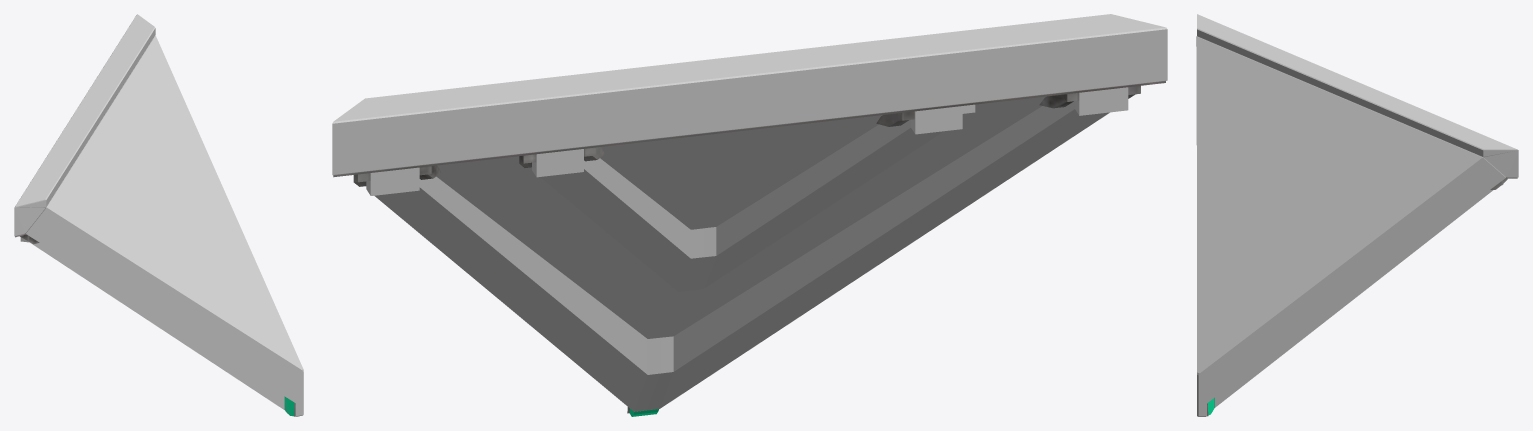
Rendered from SM_SlopeRoofCornerReverse_Glass_e7226f.glb.
3 renders of one model, left to right at view 1: azimuth 30°, elevation 25°; view 2: azimuth 150°, elevation 25°; view 3: azimuth 270°, elevation 25°, orthographic. The views are drawn at different scales.
Bounding box in the file's own units: 3.99 × 3.66 × 4.
2 materials, 1 textured.
